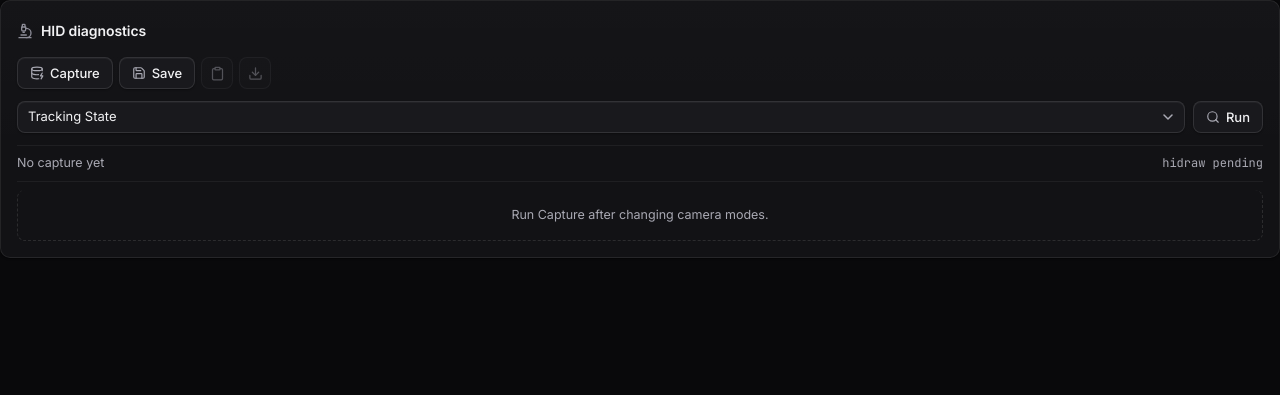
HidDiagnosticsPanel › reports when the device gives no response to a query
The image size is (1280, 395).
Select "denoise state" in the dropdown named "HID query" at (601, 117), box [17,101,1185,133]
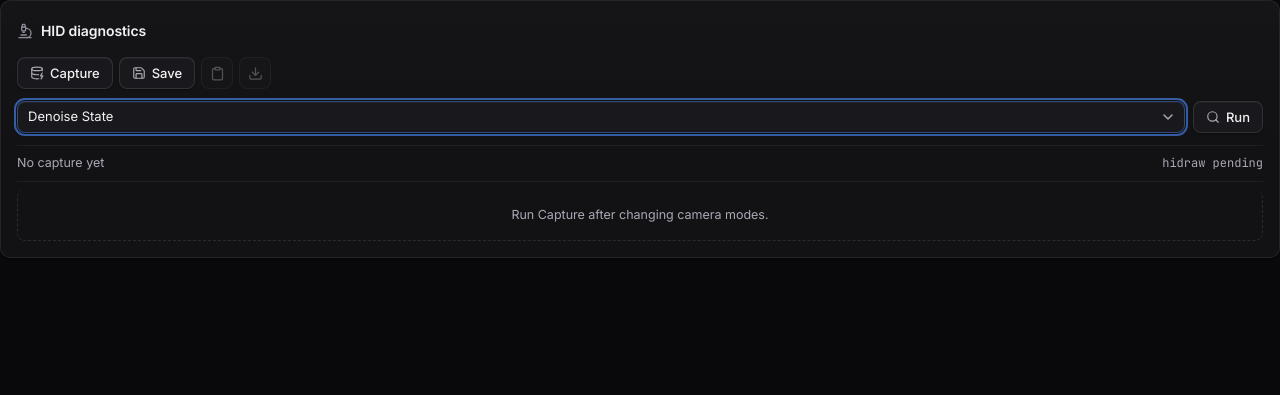
Click the button "Run" at (1228, 117), box [1193,101,1263,133]
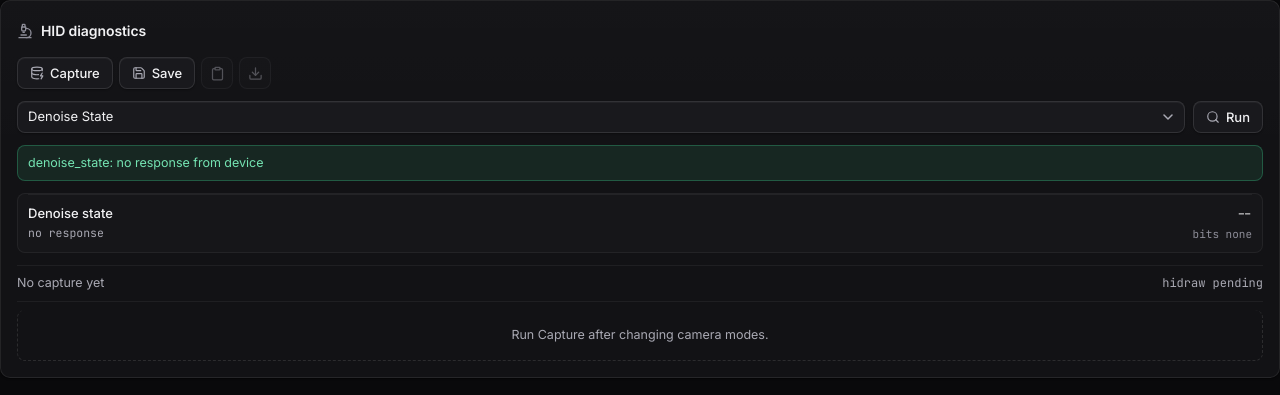
Expected: the text "denoise_state: no response from device" is shown, [17,145,1263,181]
Expected: the text "no response" is shown, [28,225,104,240]
